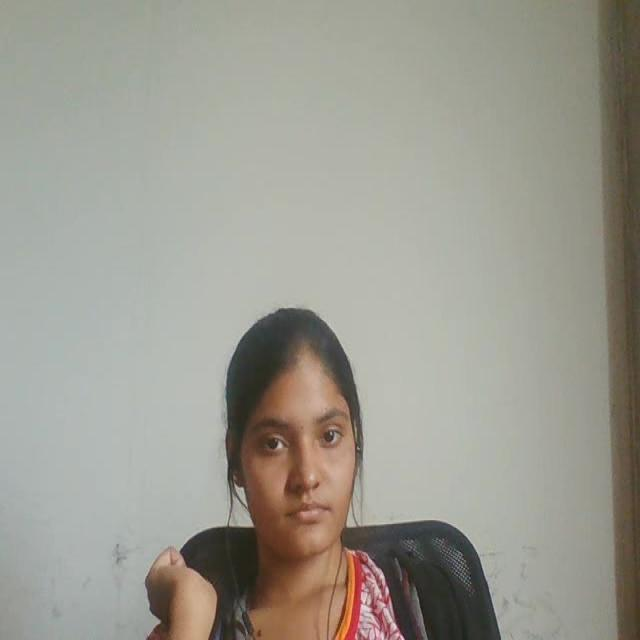Engaged: (210, 298, 389, 576)
